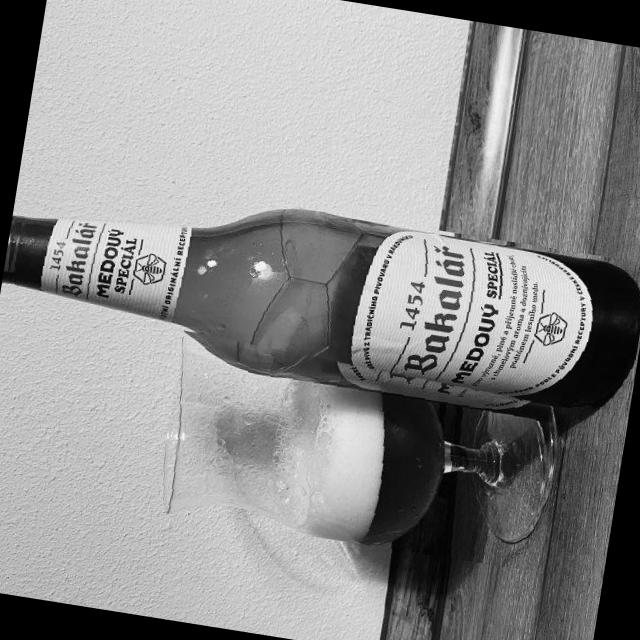Glass: (0, 163, 640, 426), (155, 329, 567, 571)
